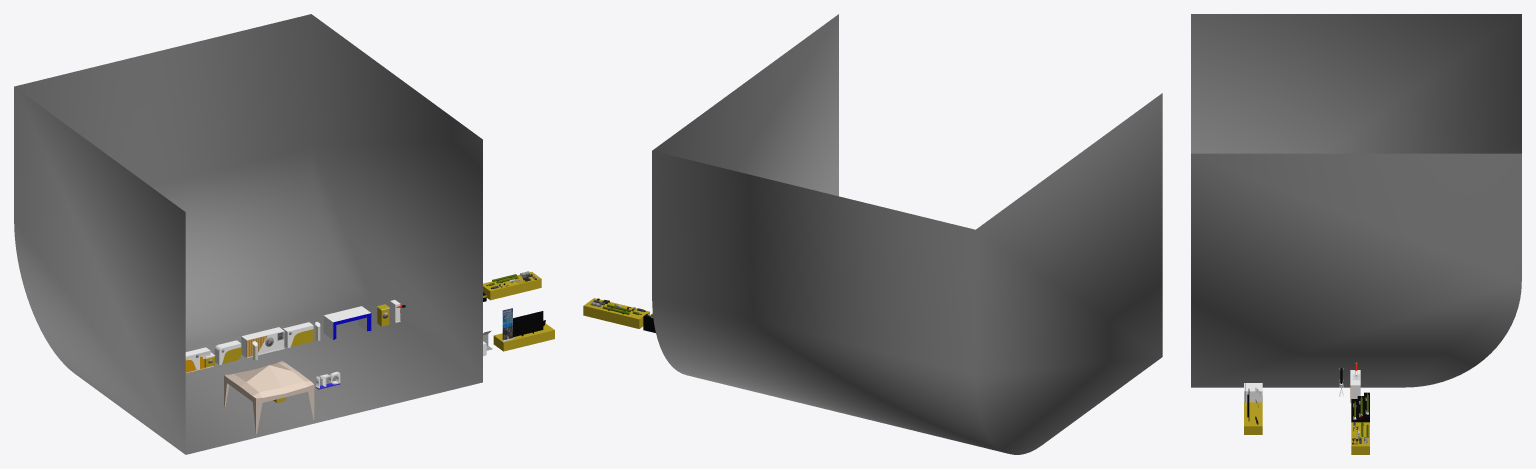
Rendered from บูธ_DTIแก้ไข.fbx.
3 views of the same model, side by side, from view 1: azimuth 30°, elevation 25°; view 2: azimuth 150°, elevation 25°; view 3: azimuth 270°, elevation 25° (orthographic). The views are drawn at different scales.
Parts seen in each view (by area): view 1: Plane.001, เต้นท์, บูธ4, โต๊ะสีขาว, โต๊ะตรงข้ามห้อง __VR, `โต๊ะหน้าห้อง __VR, บูธลานโล่ง5.002, Cube.011, บูธ3.002; view 2: Plane.001, โต๊ะตรงข้ามห้อง __VR; view 3: Plane.001, `โต๊ะหน้าห้อง __VR, โต๊ะตรงข้ามห้อง __VR, ชี้นวาง สีดำ, บูธขาวหน้าห้อง __VR.
Part boxes in pixels (<box>): Plane.001: <box>14,14,482,454</box>; เต้นท์: <box>224,361,314,433</box>; บูธ4: <box>241,327,284,357</box>; โต๊ะสีขาว: <box>323,306,371,339</box>; โต๊ะตรงข้ามห้อง __VR: <box>483,272,541,300</box>; `โต๊ะหน้าห้อง __VR: <box>493,323,554,351</box>; บูธลานโล่ง5.002: <box>283,322,313,348</box>; Cube.011: <box>513,311,543,336</box>; บูธ3.002: <box>214,340,241,364</box>; Plane.001: <box>652,14,1162,454</box>; โต๊ะตรงข้ามห้อง __VR: <box>583,298,649,328</box>; Plane.001: <box>1191,14,1521,387</box>; `โต๊ะหน้าห้อง __VR: <box>1244,402,1262,434</box>; โต๊ะตรงข้ามห้อง __VR: <box>1351,422,1369,454</box>; ชี้นวาง สีดำ: <box>1351,392,1369,422</box>; บูธขาวหน้าห้อง __VR: <box>1244,383,1262,402</box>.
Size of the model in its own units: 2787 by 1478 by 1887.
